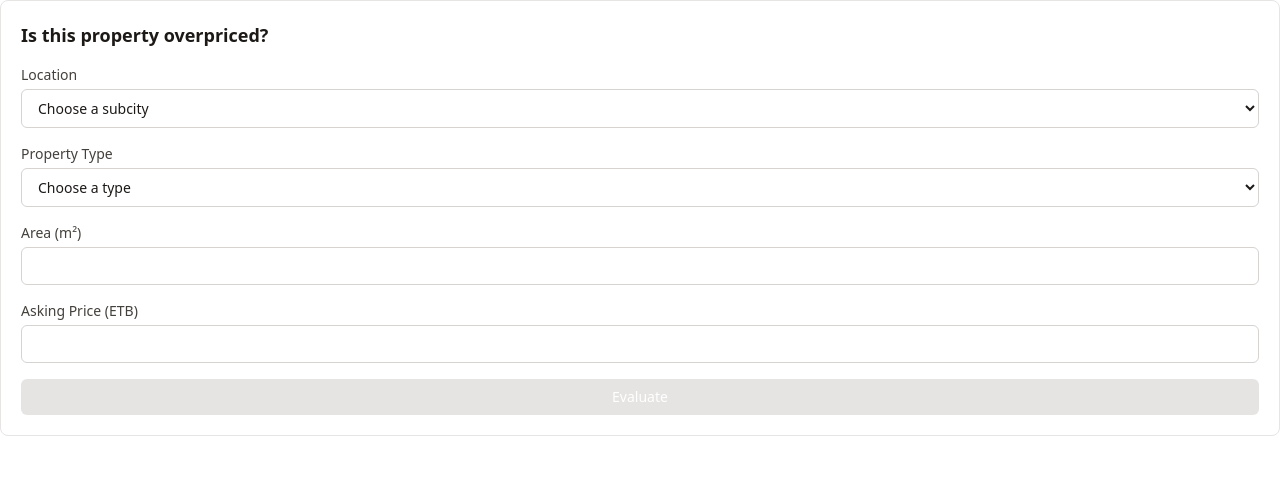
Test: OverpricedEvaluatorWidget › renders an insufficient-data message, not an error, when the assessment can't be made
The width and height of the screenshot is (1280, 489).
Select "Bole" in the dropdown labelled "Location" at (640, 108), box [21,89,1259,128]
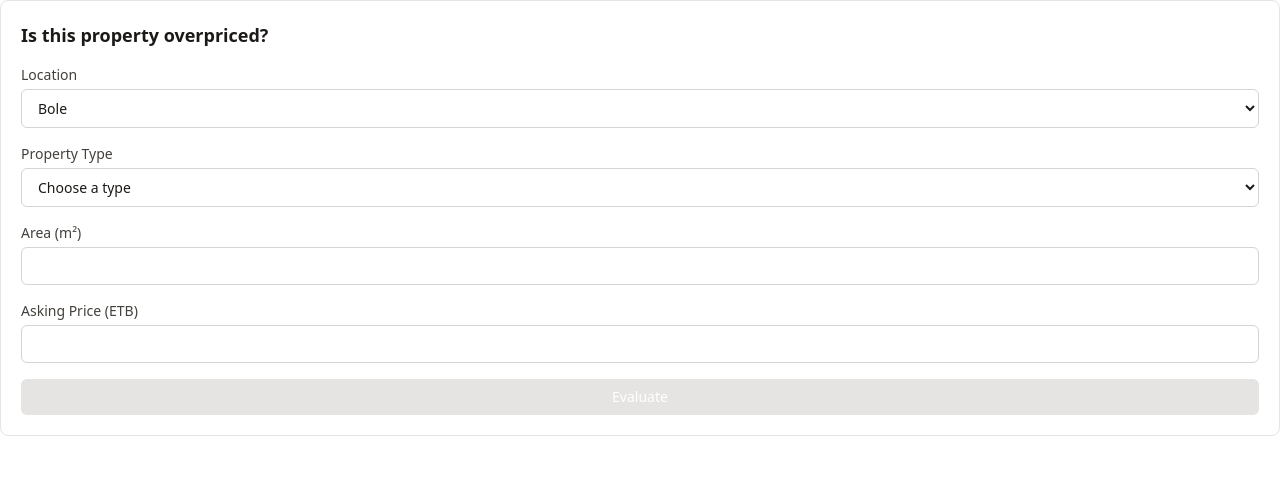
Select "Apartment" in the dropdown labelled "Property Type" at (640, 188), box [21,168,1259,207]
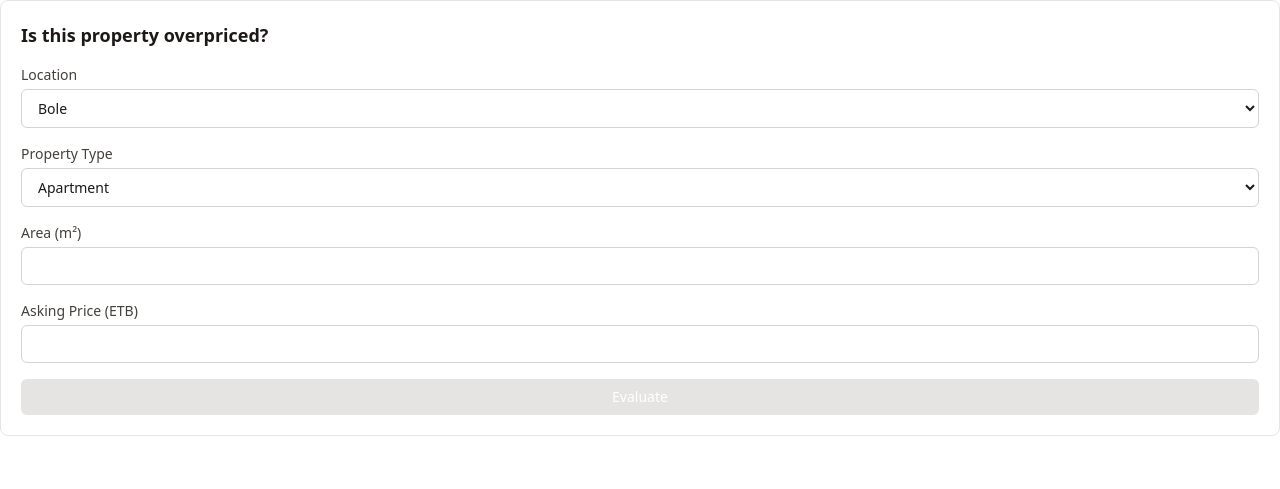
Type "100" into the number field labelled "Area (m²)" at (640, 266), box [21,247,1259,285]
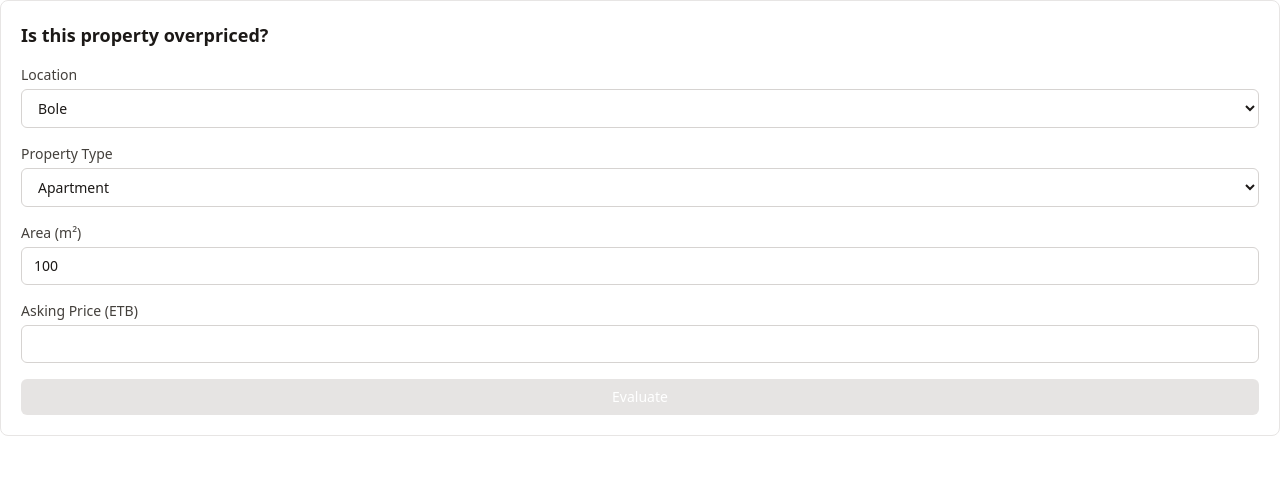
Type "5000000" into the number field labelled "Asking Price (ETB)" at (640, 344), box [21,325,1259,363]
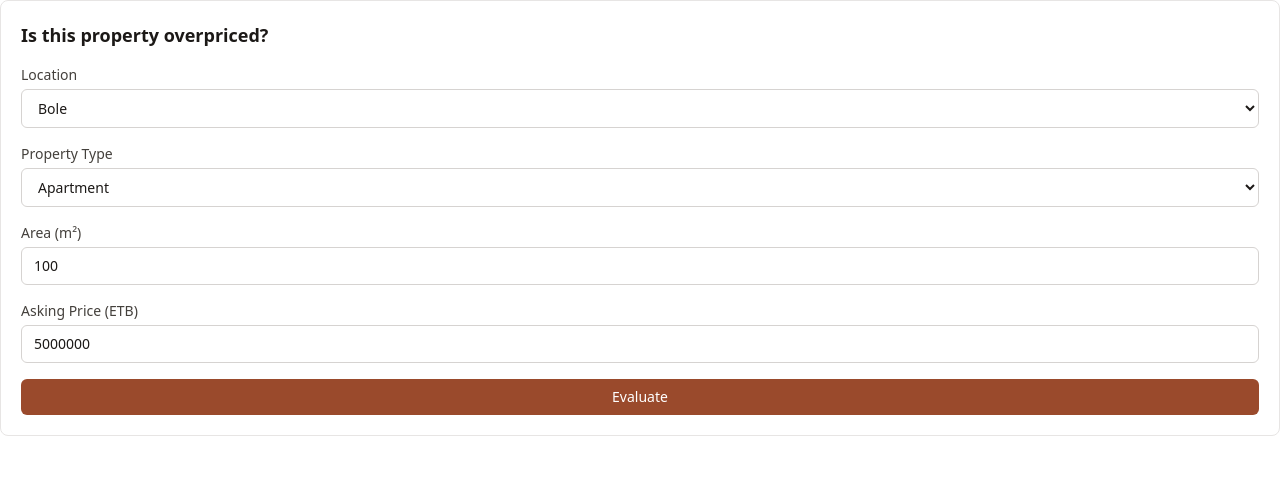
Click the button "Evaluate" at (640, 397), box [21,379,1259,415]
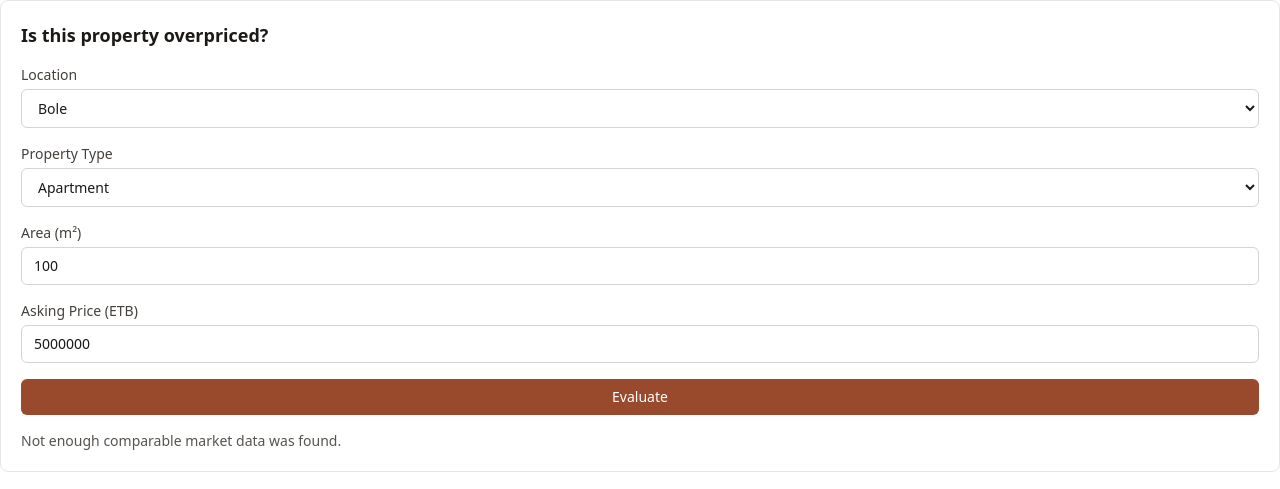
Now the text with test id "valuation-insufficient" reads "Not enough comparable market data was found.", box [21,431,341,450]
